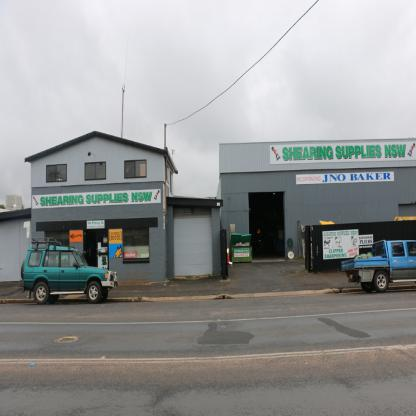Car: (19, 238, 118, 304)
Truck: (20, 239, 119, 303), (341, 239, 415, 293)
